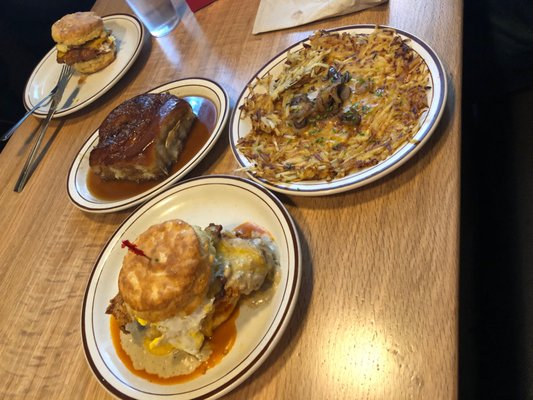sushi: (229, 23, 452, 194)
